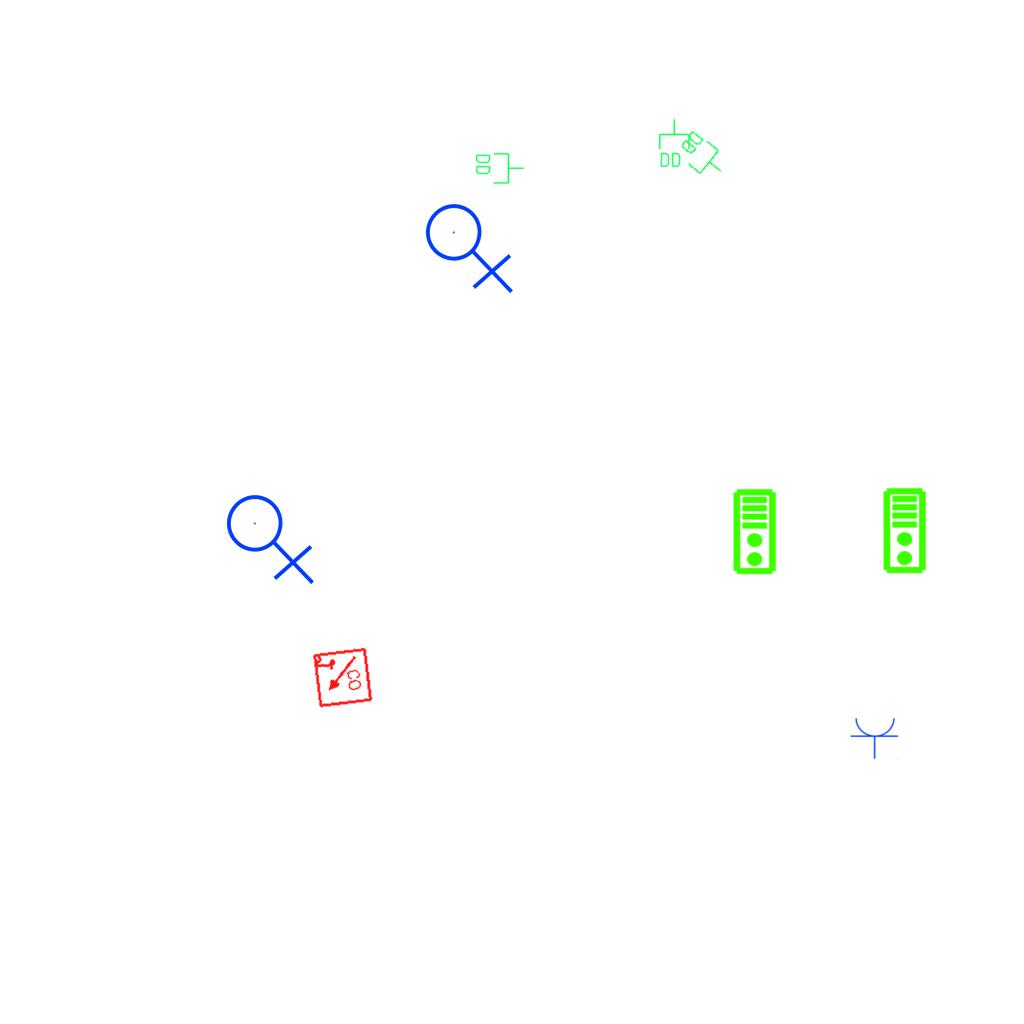Datenanschluss_zweifach: (671, 126, 734, 186), (657, 118, 691, 169), (474, 151, 525, 185)
Elektroanschluss_allgemein_230V_Geraeteanschlussdose_230V: (225, 486, 319, 585), (424, 195, 518, 294)
Gegensprechanlage_mit_Video: (882, 487, 929, 575), (732, 488, 779, 576)
ROA_Rauchmelder_optisch_mit_Signalgeber_(Sockelsirene): (310, 646, 374, 710)
Schukosteckdose_einfach: (850, 716, 900, 759)
